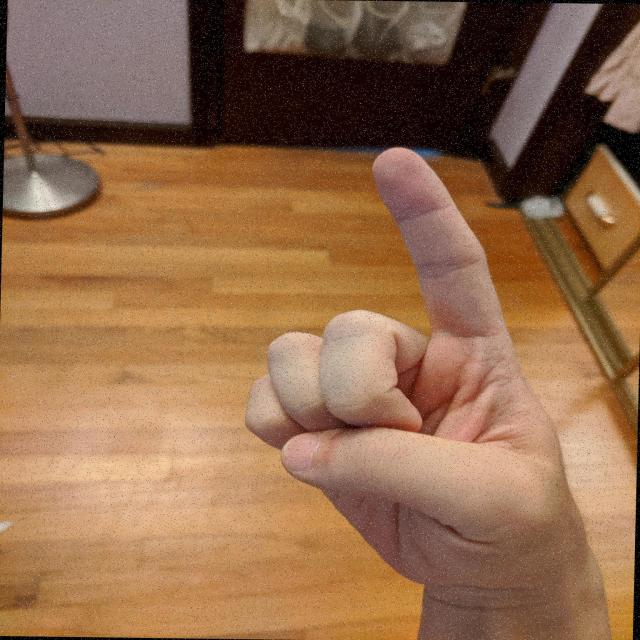D: (230, 141, 610, 596)
